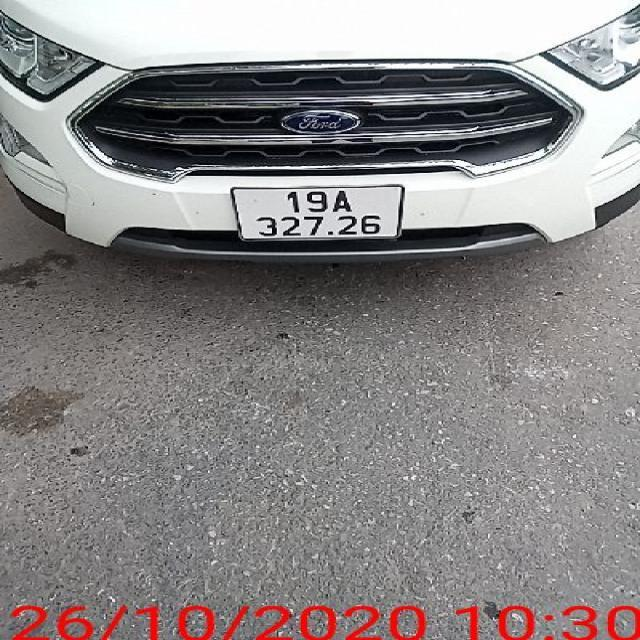bien_so_oto: (230, 184, 406, 242)
